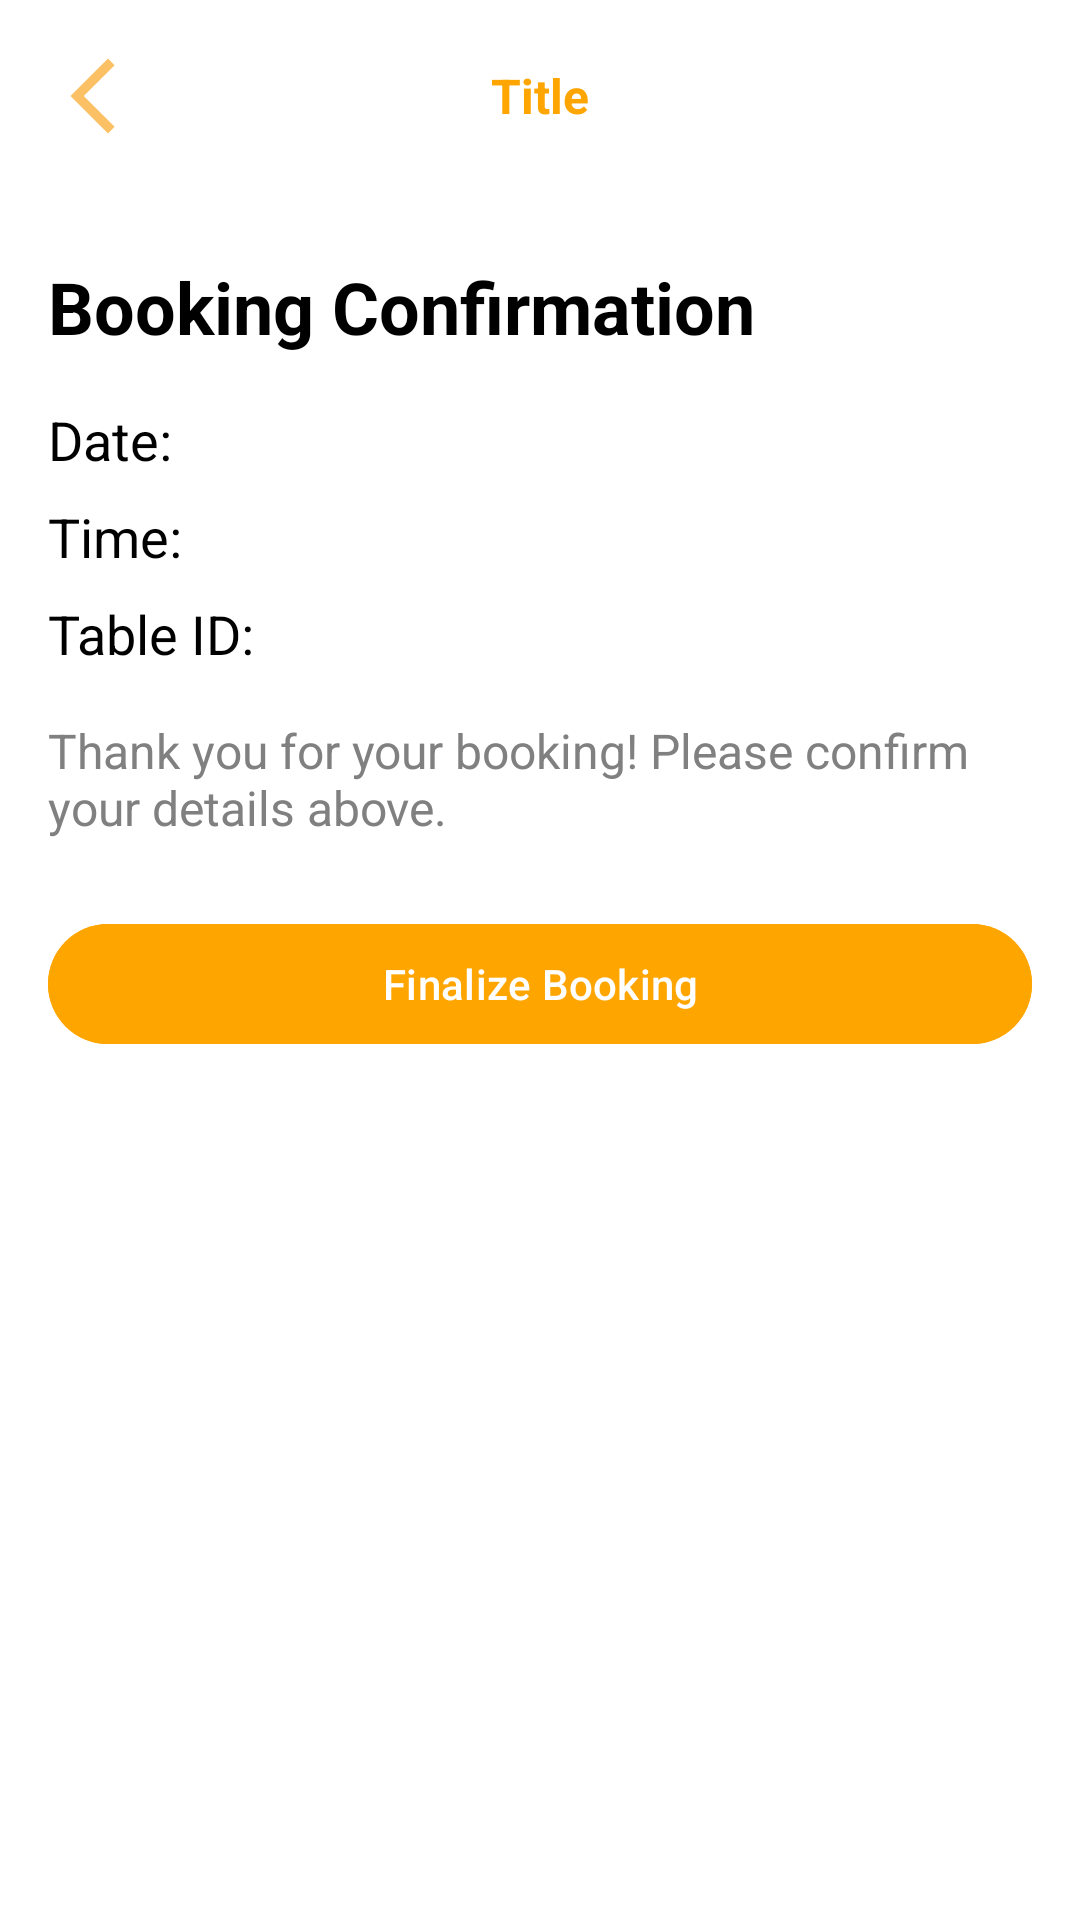

Icon bounding boxes for this 1080 × 1920 phone screenshot, format (x1, y1, x2, y2):
back: (71, 59, 115, 133)
